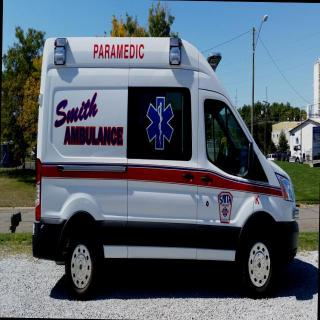Ambulance: (22, 24, 306, 304)
